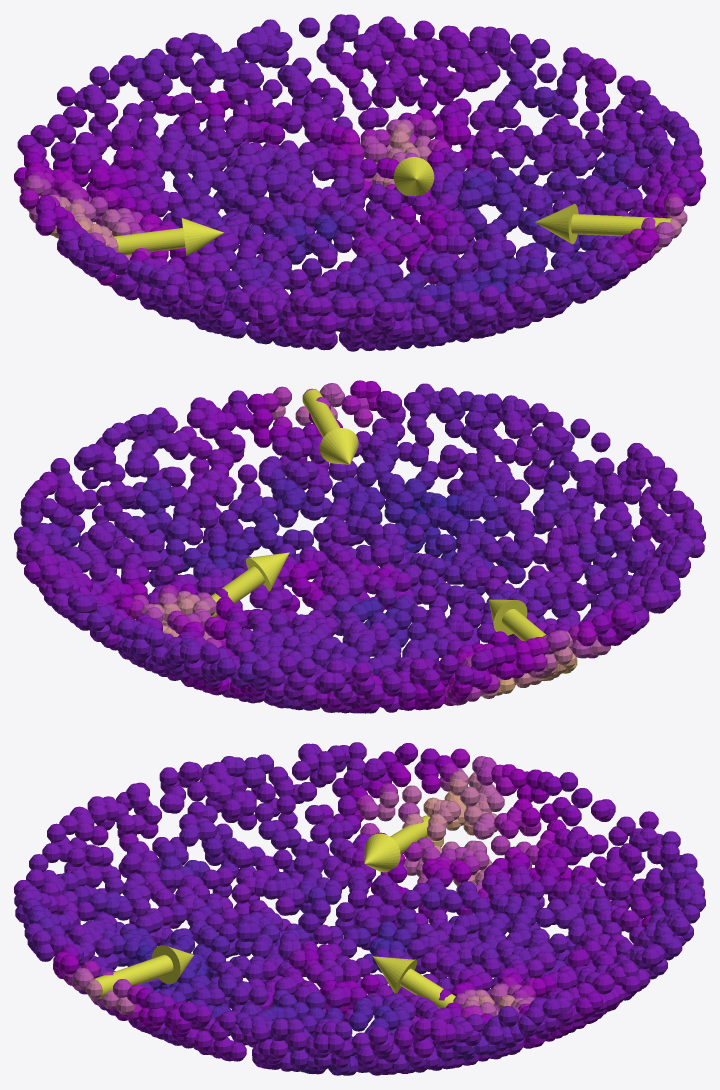
Rendered from pred_heatmap_0.glb.
3 views of the same model, one above another, from view 1: azimuth 30°, elevation 25°; view 2: azimuth 150°, elevation 25°; view 3: azimuth 270°, elevation 25° (orthographic).
Parts seen in each view (by area): view 1: world; view 2: world; view 3: world.
Part boxes in pixels (<box>): world: <box>14,14,705,351</box>; world: <box>14,380,705,713</box>; world: <box>14,742,705,1075</box>.
Bounding box in the file's own units: 2.05 × 0.3631 × 2.05.
